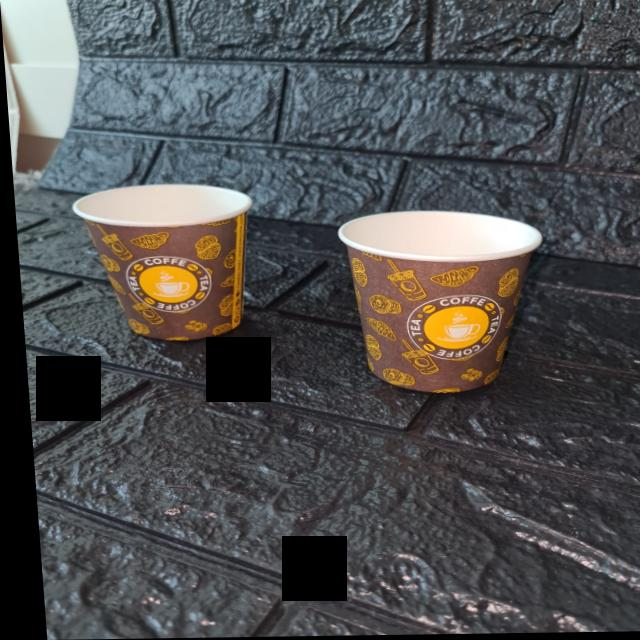cups: (330, 210, 543, 394), (72, 187, 262, 341)
